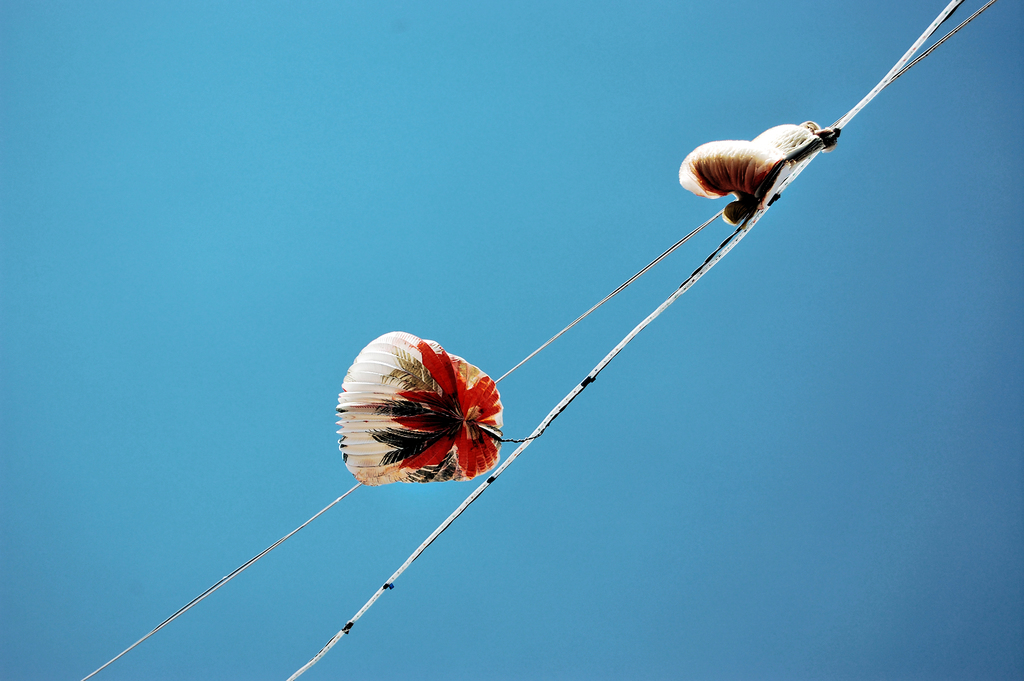person: (673, 119, 841, 227)
